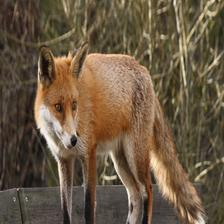fox: (32, 39, 219, 224)
